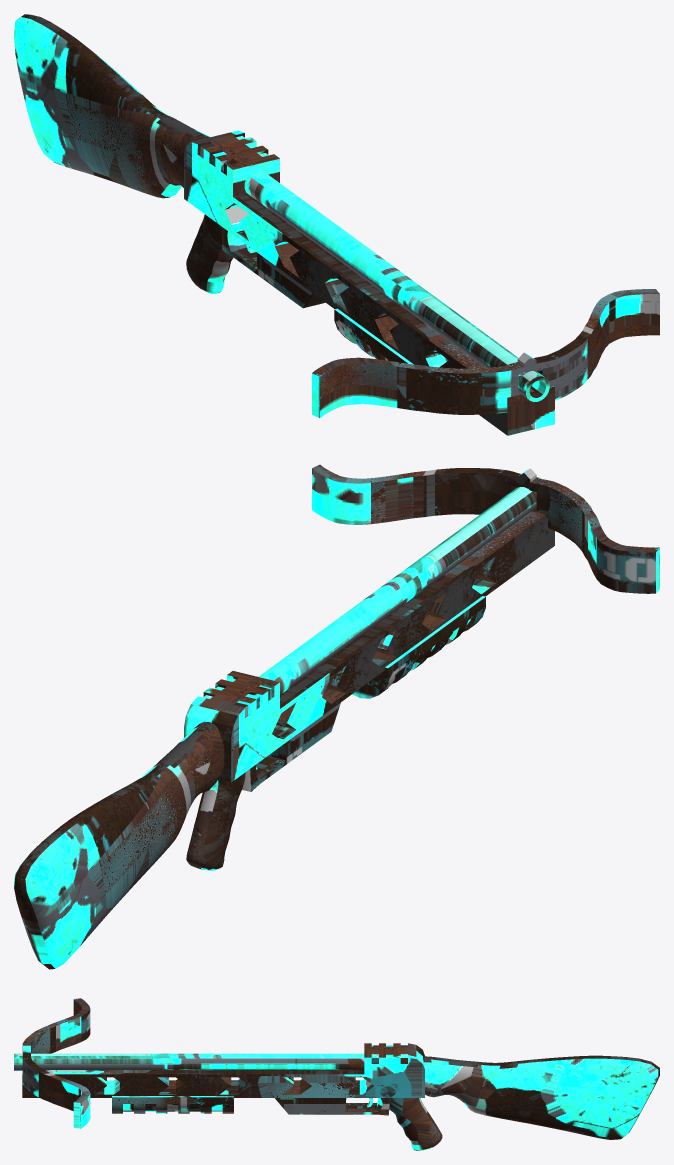
File: CrossGun.fbx
3 renders of one model, top to bottom at view 1: azimuth 30°, elevation 25°; view 2: azimuth 150°, elevation 25°; view 3: azimuth 270°, elevation 25°, orthographic. The views are drawn at different scales.
Parts seen in each view (by area): view 1: Cube.340, Cube.339, Cube.338, Cube.337; view 2: Cube.340, Cube.339, Cube.338, Cube.337; view 3: Cube.340, Cube.339, Cube.338, Cube.337.
Boxes of the visible parts, x1=… form: Cube.340: x1=184, y1=130, x2=659, y2=435; Cube.339: x1=14, y1=14, x2=210, y2=198; Cube.338: x1=186, y1=214, x2=233, y2=294; Cube.337: x1=221, y1=226, x2=325, y2=308; Cube.340: x1=184, y1=464, x2=659, y2=782; Cube.339: x1=14, y1=721, x2=224, y2=969; Cube.338: x1=186, y1=772, x2=245, y2=870; Cube.337: x1=242, y1=702, x2=340, y2=791; Cube.340: x1=14, y1=998, x2=424, y2=1128; Cube.339: x1=423, y1=1055, x2=659, y2=1139; Cube.338: x1=389, y1=1098, x2=442, y2=1150; Cube.337: x1=275, y1=1098, x2=390, y2=1115.
Size of the model in its own units: 24.19 by 11.2 by 63.16.
